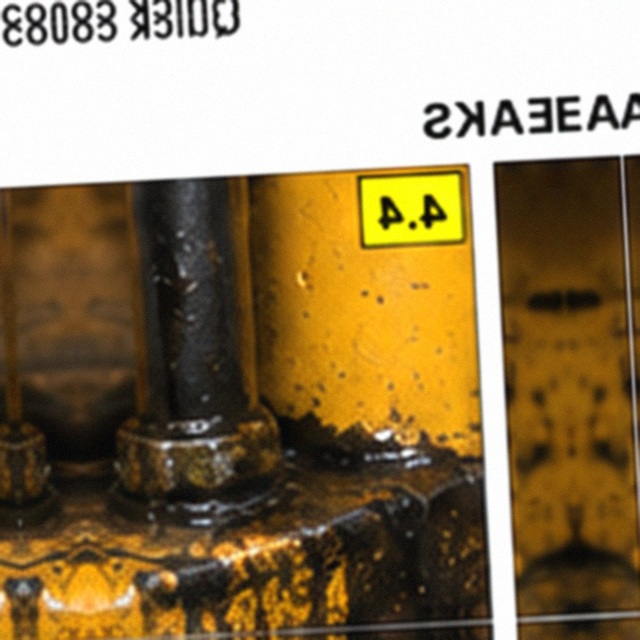hydraulic_oil_leak: (186, 177, 420, 454)
